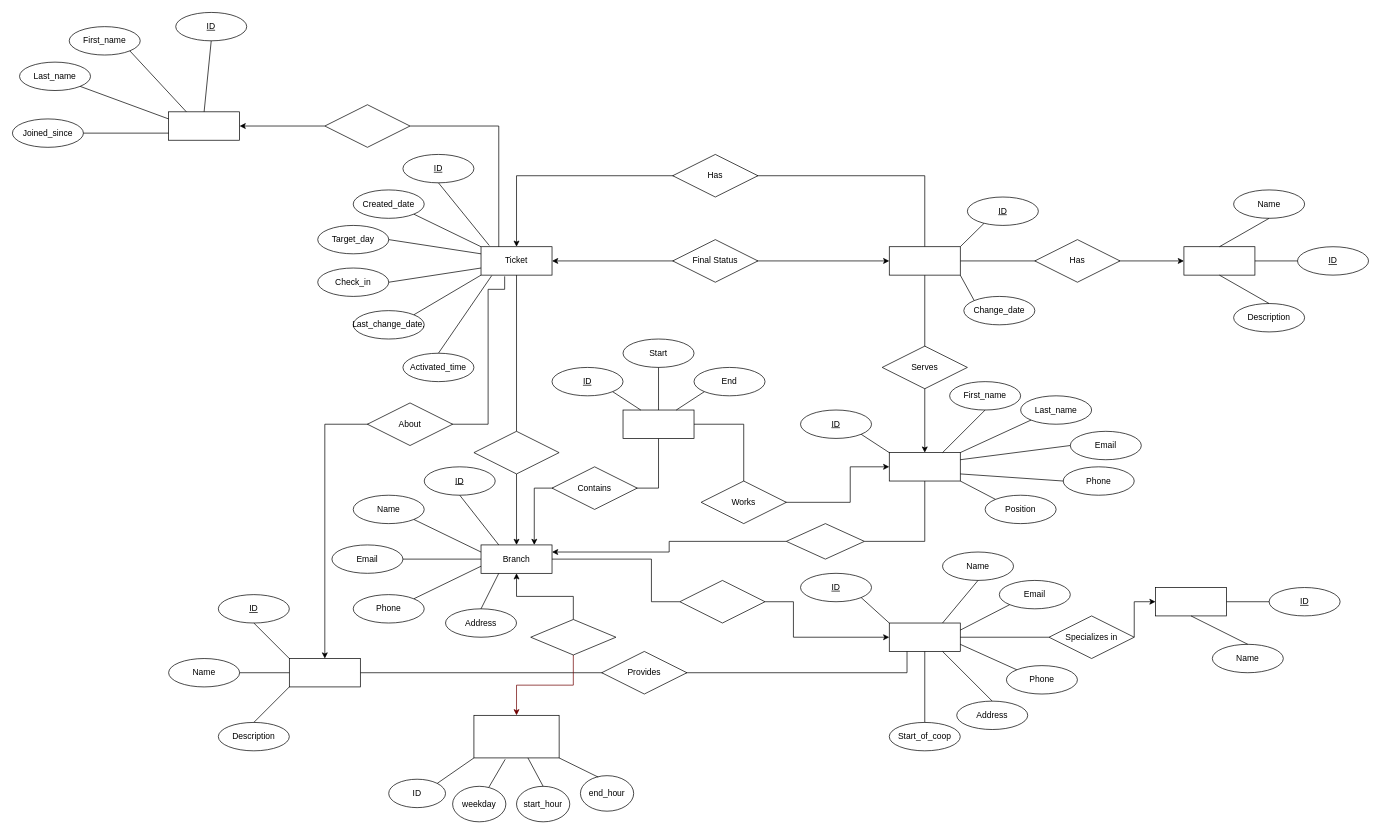
Some shapes in this 1381 by 834 pixel diagram are drawn without their labels. Each missing label, with the box of its shape:
Belongs to: (679, 580, 765, 623)
Book: (324, 104, 410, 147)
Company: (889, 622, 960, 651)
Employees: (889, 452, 960, 481)
Employees' Schedules: (622, 409, 694, 438)
Field: (1155, 587, 1227, 616)
Interval: (473, 715, 559, 758)
Is in: (786, 523, 864, 559)
Location: (473, 431, 559, 474)
Open: (530, 619, 616, 655)
Service Type: (289, 658, 360, 687)
Ticket Logs: (889, 246, 960, 275)
Ticket Status: (1183, 246, 1255, 275)
User: (168, 111, 240, 140)
